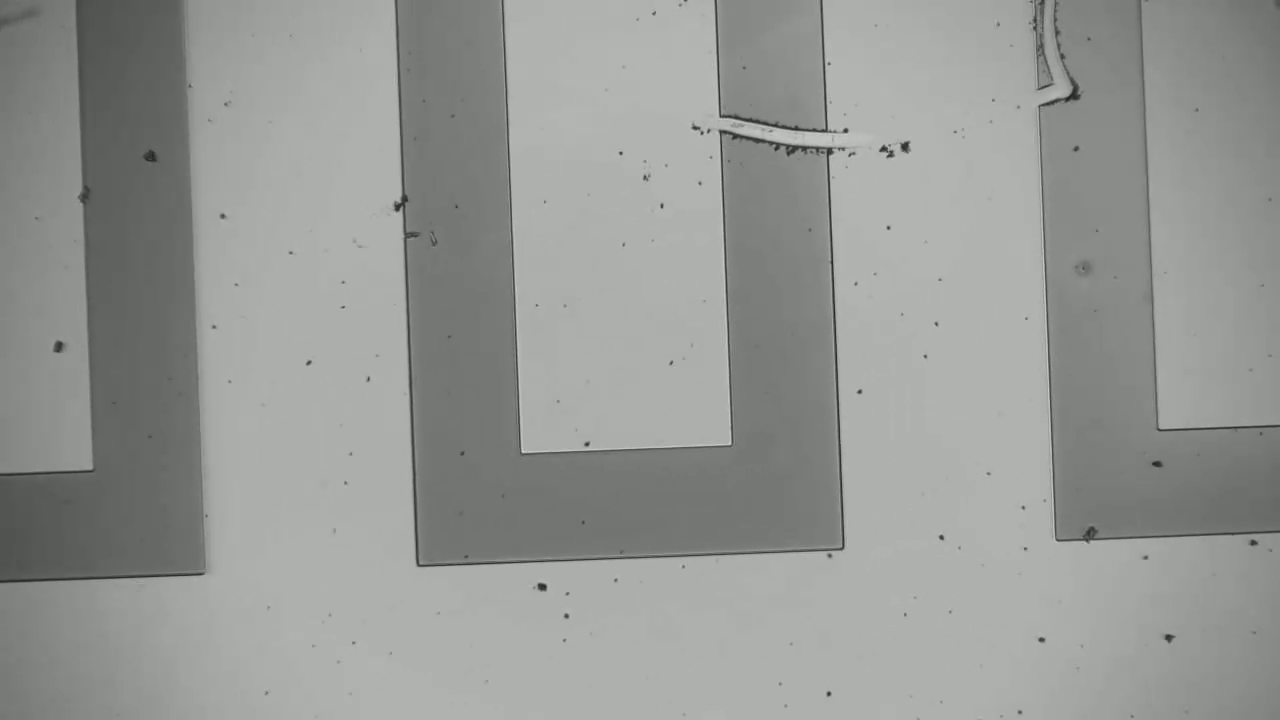Short_circuit: (686, 96, 871, 179)
